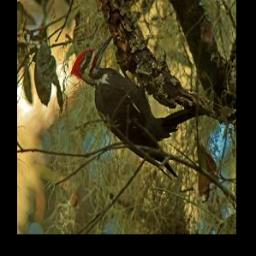Woodpecker: (69, 35, 182, 180)
